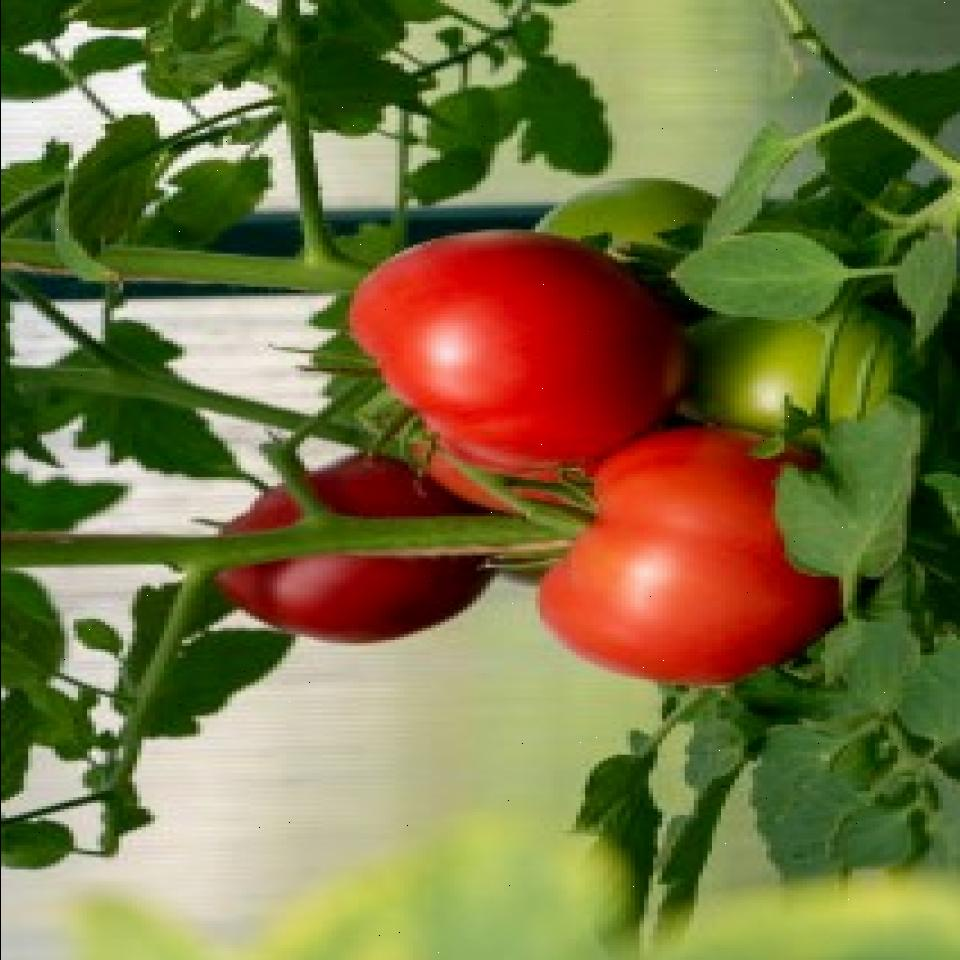Healthy: (537, 422, 866, 689), (338, 233, 686, 449), (212, 442, 469, 646)
